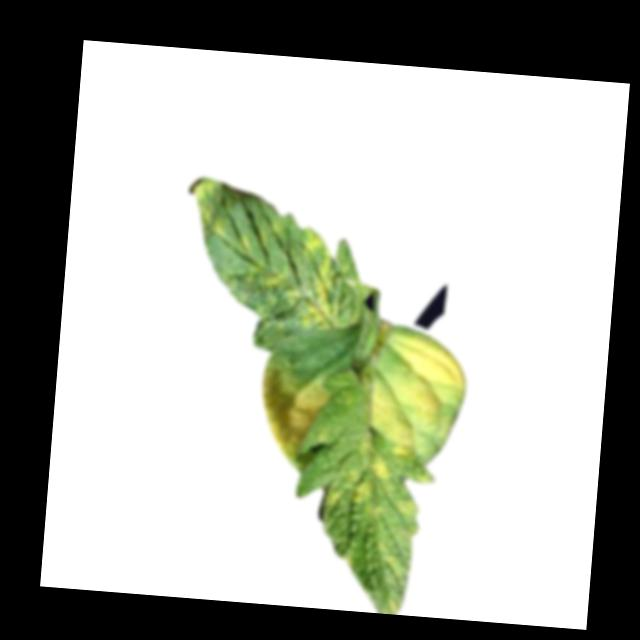Leaf_Mold: (365, 328, 473, 460), (256, 360, 332, 463), (294, 227, 352, 332), (323, 450, 395, 516), (190, 176, 229, 241), (245, 265, 293, 295)
